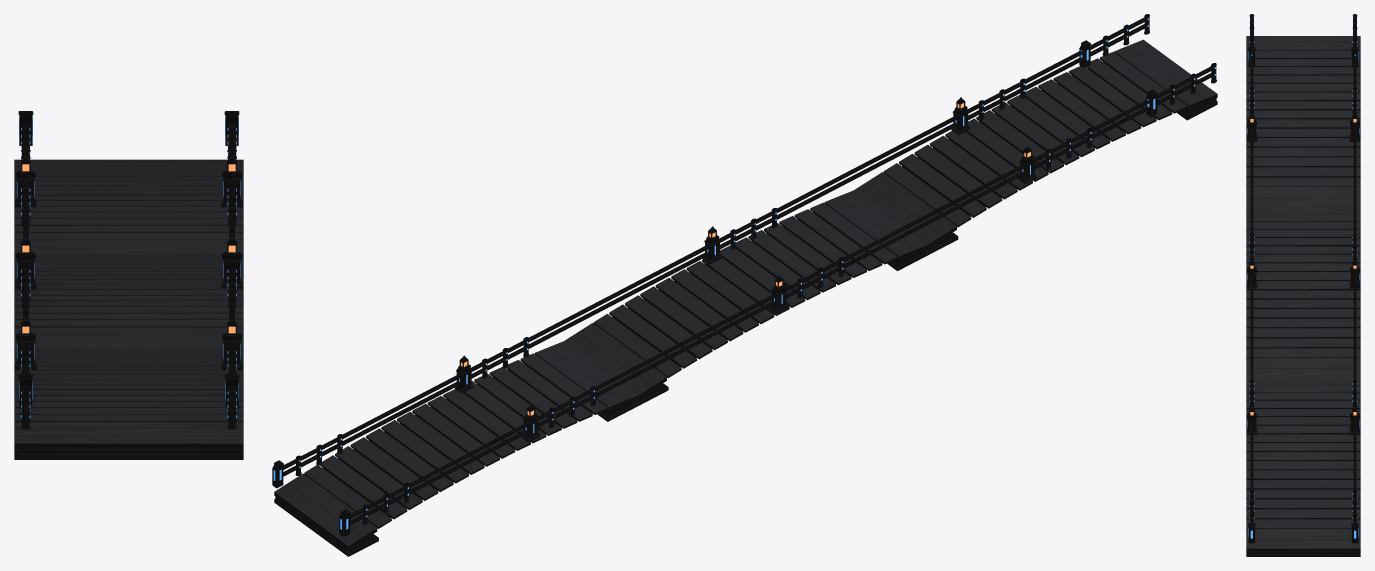
File: bridge_projects_minecraft.glb
The picture shows the model from 3 angles, left to right: view 1: azimuth 90°, elevation 25°; view 2: azimuth 210°, elevation 25°; view 3: azimuth 270°, elevation 25°; orthographic projection. The views are drawn at different scales.
Visible parts, largest first — view 1: bridge; view 2: bridge; view 3: bridge.
Boxes of the visible parts, x1,y1,x2,y2 form: bridge: (14,111,243,459); bridge: (272,14,1217,556); bridge: (1246,14,1360,556).
Size of the model in its own units: 13.61 by 4.14 by 2.
Materials: 5 (3 with a texture image).
